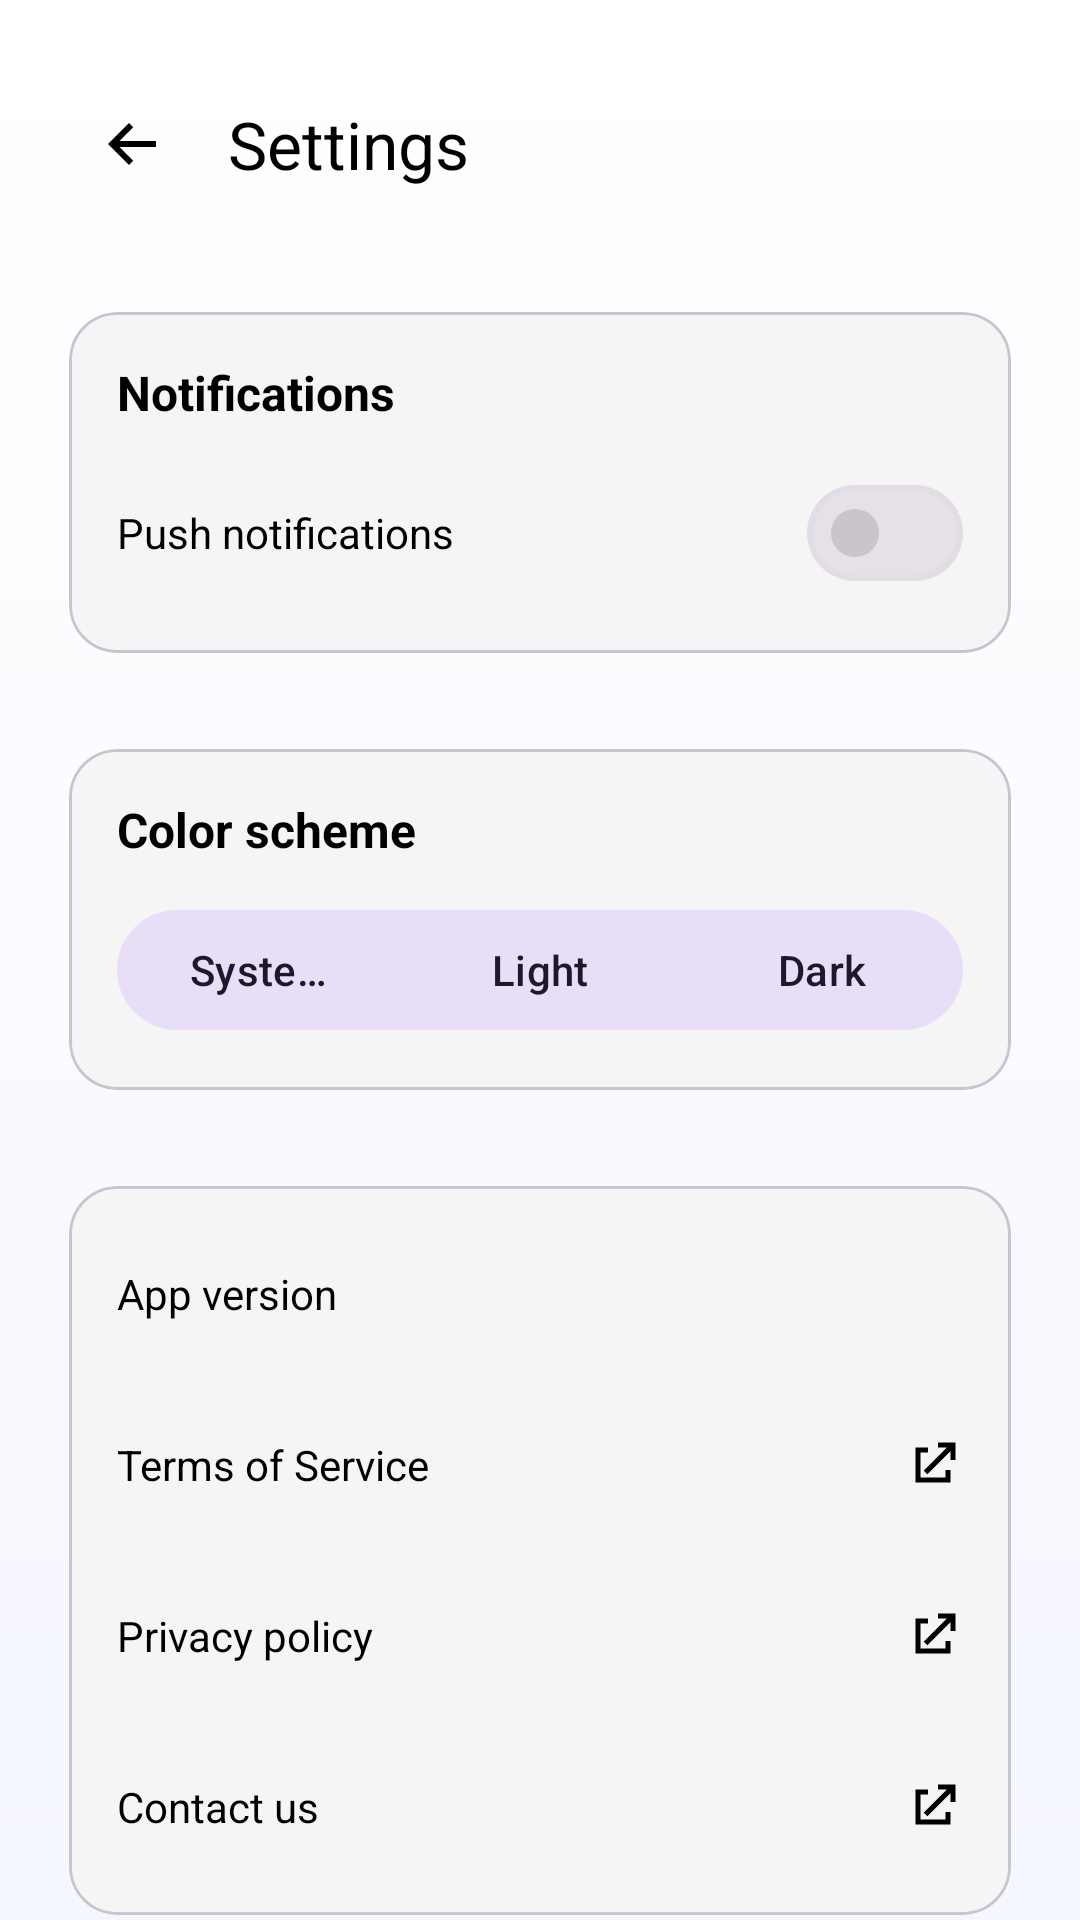

Screen size 1080px x 1920px. Icon name, then its box in pixels as [x1,y1,x2,y2]:
open in: [915,1442,956,1483], [915,1613,956,1654], [915,1784,956,1825]
